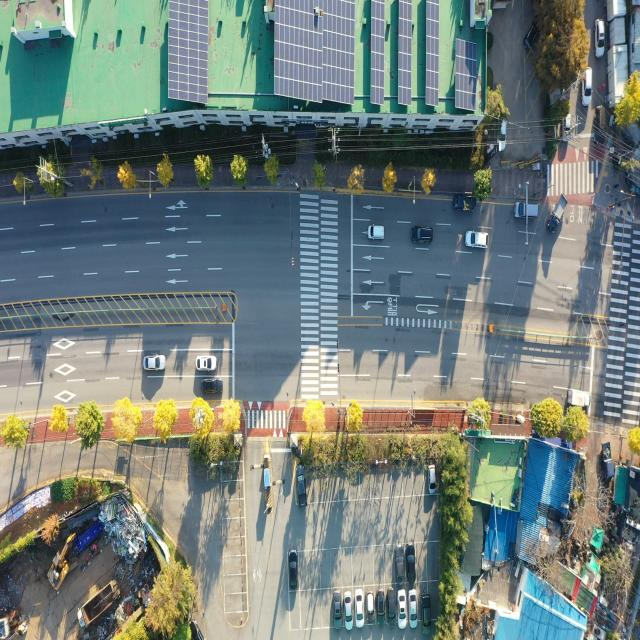car: (582, 65, 593, 109), (513, 202, 538, 220), (524, 21, 539, 51), (594, 17, 604, 59), (595, 107, 605, 147), (468, 232, 490, 250), (387, 588, 397, 624), (296, 467, 305, 506), (289, 551, 298, 589), (408, 544, 417, 582), (412, 228, 432, 245), (409, 589, 418, 626), (143, 355, 165, 370), (377, 592, 386, 627), (203, 380, 222, 396), (335, 589, 343, 627), (397, 590, 405, 627), (396, 545, 404, 582), (422, 595, 430, 631), (356, 588, 364, 624), (197, 356, 216, 371), (365, 590, 373, 624), (345, 591, 352, 627), (499, 121, 507, 152), (368, 226, 384, 241), (428, 466, 436, 495), (564, 116, 572, 142)
medium_truck: (77, 576, 123, 629)
small_truck: (548, 194, 568, 234), (568, 389, 591, 409), (454, 196, 478, 213)
